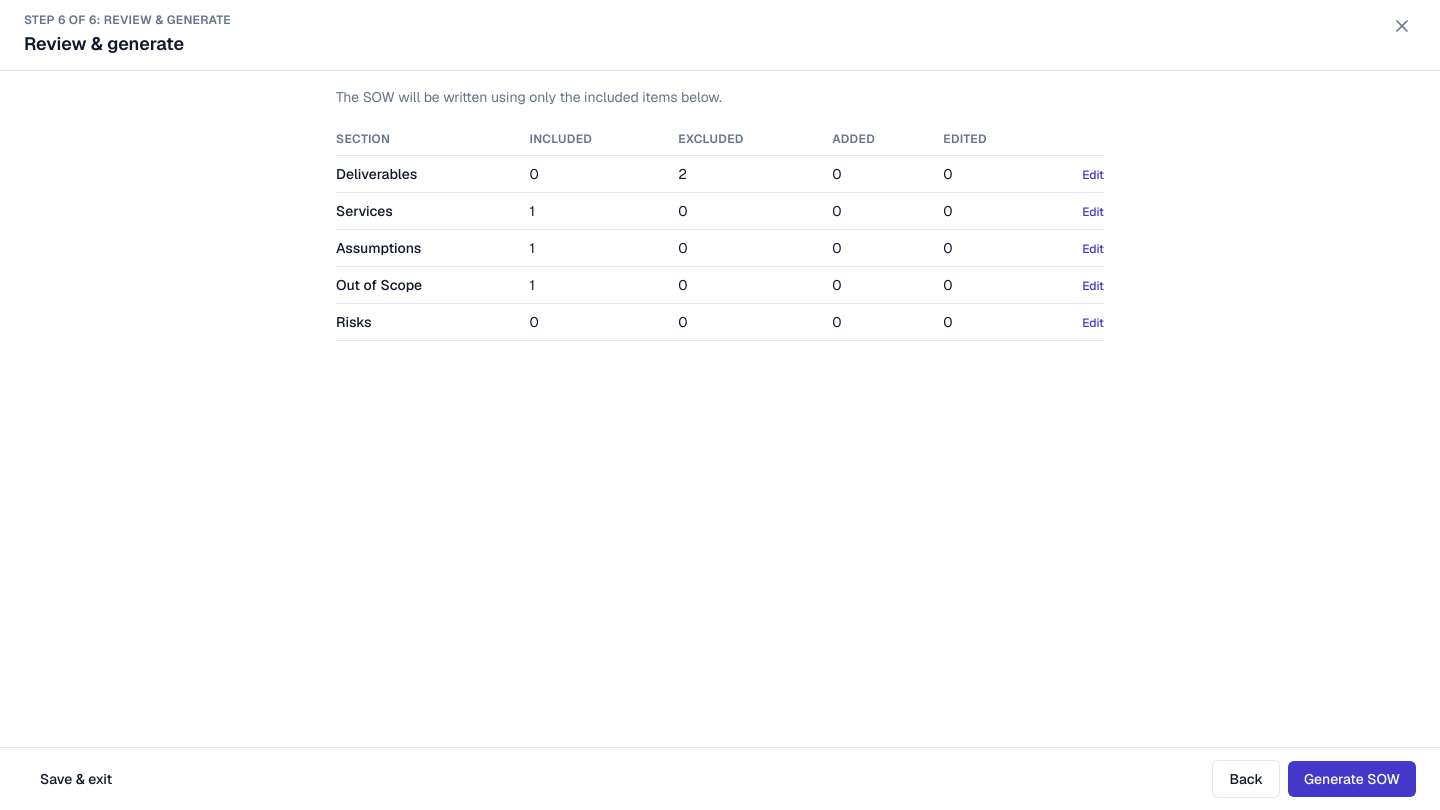
it: SowReviewOverlay — review & generate › won't generate with no included deliverable
Click the button "Generate SOW".
click(1352, 779)  # box [1288, 761, 1416, 797]
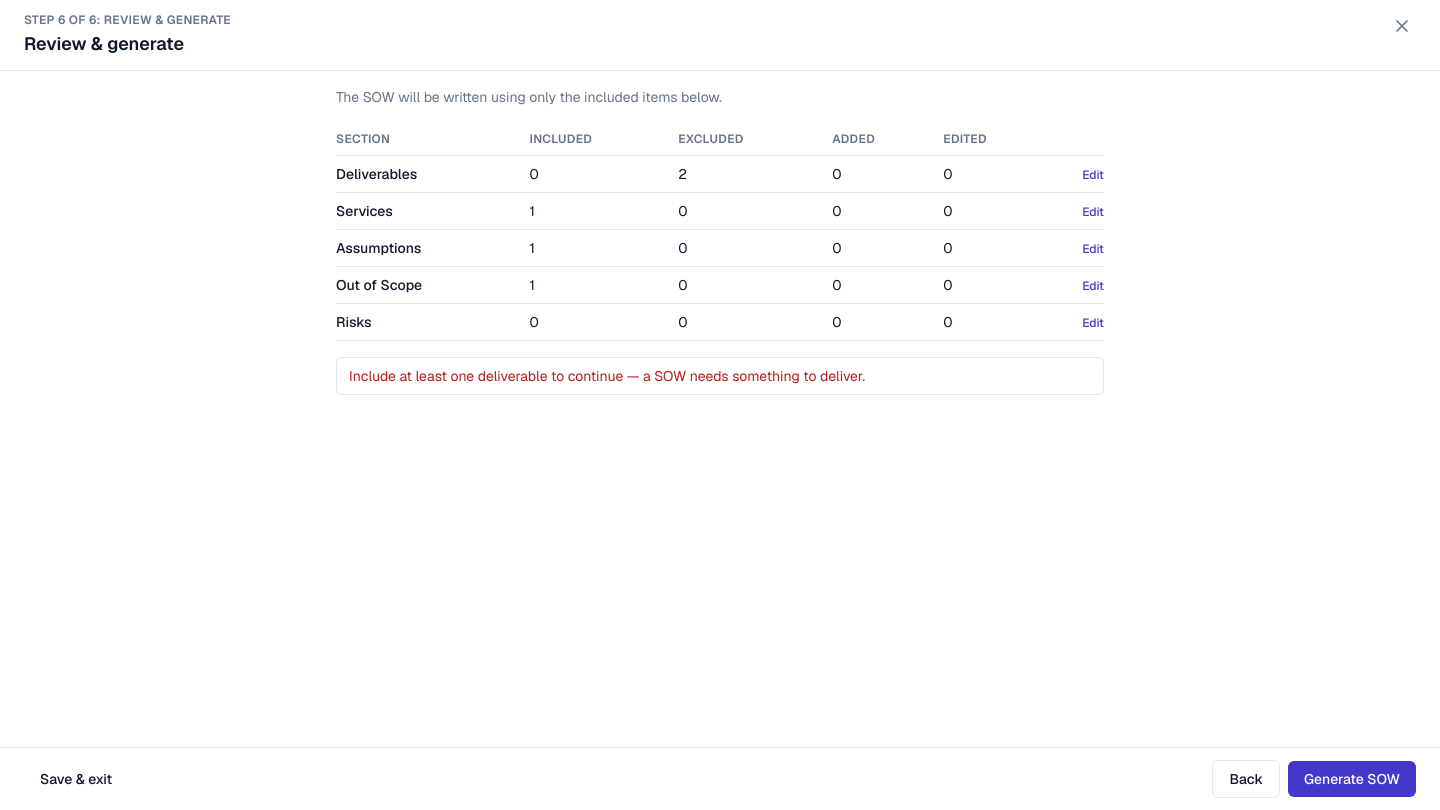
Check: the message shows "at least one deliverable", box [349, 367, 865, 385]
